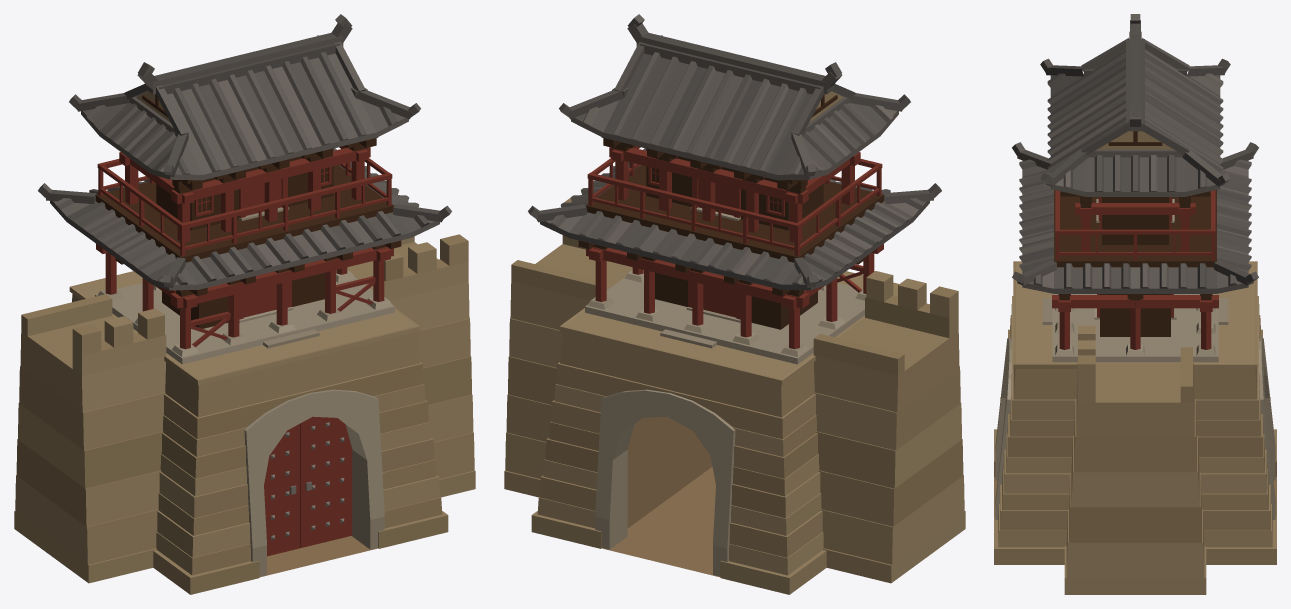
The model's file is city-gate-77d012.glb.
The picture shows the model from 3 angles, left to right: view 1: azimuth 30°, elevation 25°; view 2: azimuth 150°, elevation 25°; view 3: azimuth 270°, elevation 25°; orthographic projection. The views are drawn at different scales.
Parts seen in each view (by area): view 1: gatehouse-body, door-r-leaf, door-l-leaf; view 2: gatehouse-body; view 3: gatehouse-body.
Boxes of the visible parts, x1,y1,x2,y2 form: gatehouse-body: (14, 14, 475, 594); door-r-leaf: (300, 416, 352, 547); door-l-leaf: (264, 424, 299, 556); gatehouse-body: (504, 14, 965, 594); gatehouse-body: (994, 14, 1276, 594).
Bounding box in the file's own units: 12 × 13.9 × 8.
